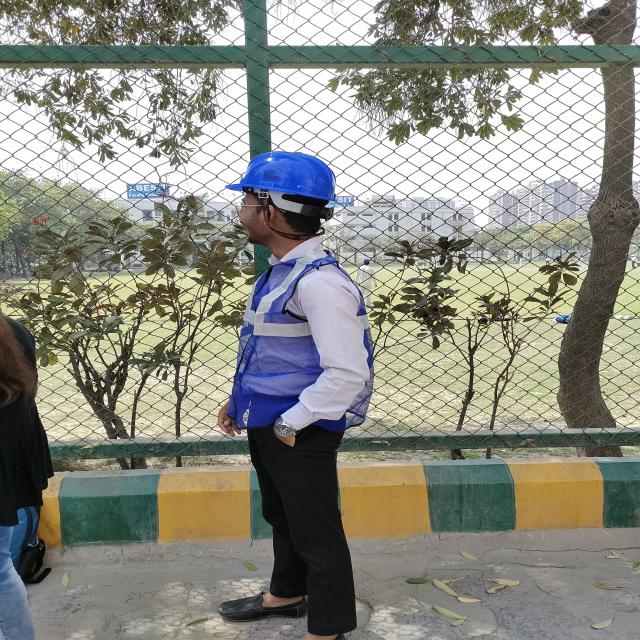safe: (226, 151, 373, 640)
